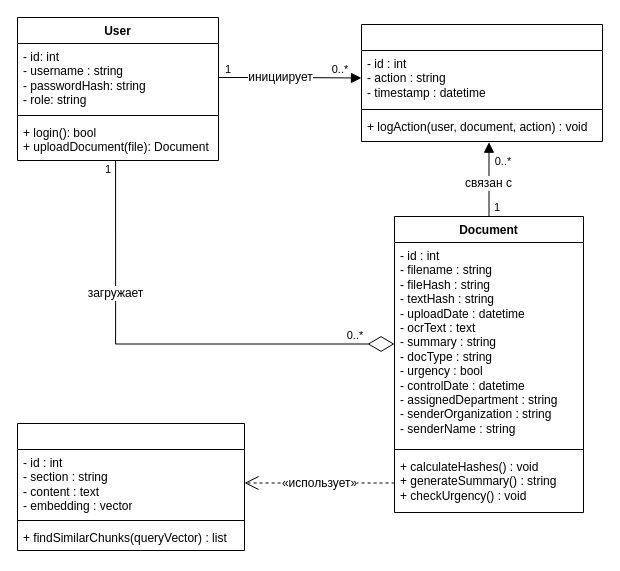
Some shapes in this 620 by 571 pixel diagram are drawn without their labels. Each missing label, with the box of its shape:
AuditLog: (360, 24, 602, 142)
NormativeChunk: (16, 422, 244, 550)
